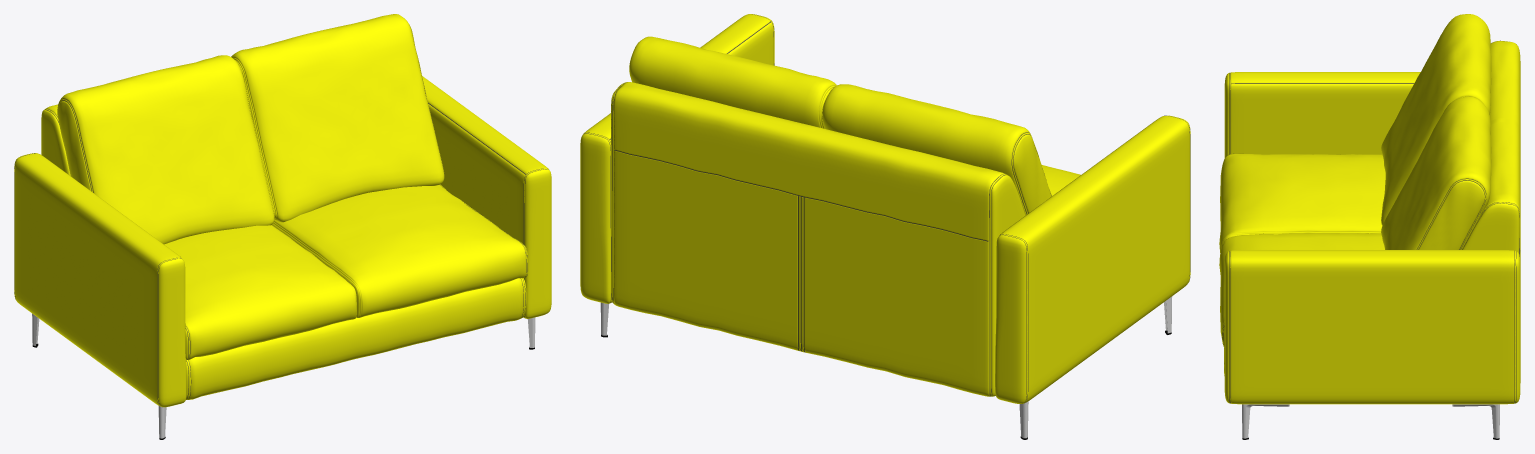
The picture shows the model from 3 angles, left to right: view 1: azimuth 30°, elevation 25°; view 2: azimuth 150°, elevation 25°; view 3: azimuth 270°, elevation 25°; orthographic projection. The views are drawn at different scales.
Visible parts, largest first — view 1: bodydarkblue65, leftarm65, rightarm65, metaleg65; view 2: bodydarkblue65, leftarm65, rightarm65, metaleg65; view 3: rightarm65, bodydarkblue65, leftarm65, metaleg65.
Boxes of the visible parts, <box> form: bodydarkblue65: <box>41,14,528,399</box>; leftarm65: <box>14,153,186,407</box>; rightarm65: <box>422,76,551,318</box>; metaleg65: <box>32,313,535,439</box>; bodydarkblue65: <box>611,36,1080,396</box>; leftarm65: <box>995,115,1190,403</box>; rightarm65: <box>580,14,774,303</box>; metaleg65: <box>600,296,1172,439</box>; rightarm65: <box>1224,250,1520,404</box>; bodydarkblue65: <box>1219,14,1520,375</box>; leftarm65: <box>1224,72,1420,157</box>; metaleg65: <box>1242,404,1499,439</box>.
Bounding box in the file's own units: 1.4 × 0.8754 × 0.9321.
Materials: 8 (5 with a texture image).
